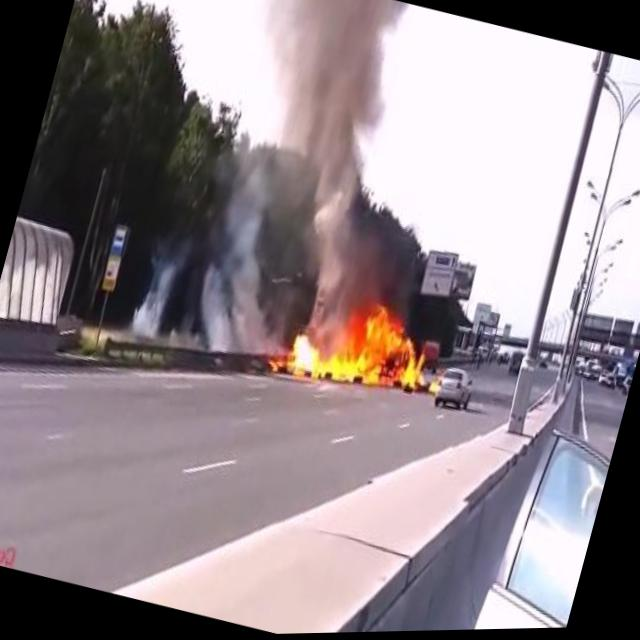fire: (270, 280, 440, 417)
